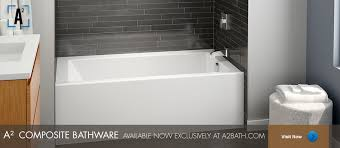bathub: (51, 53, 246, 148)
